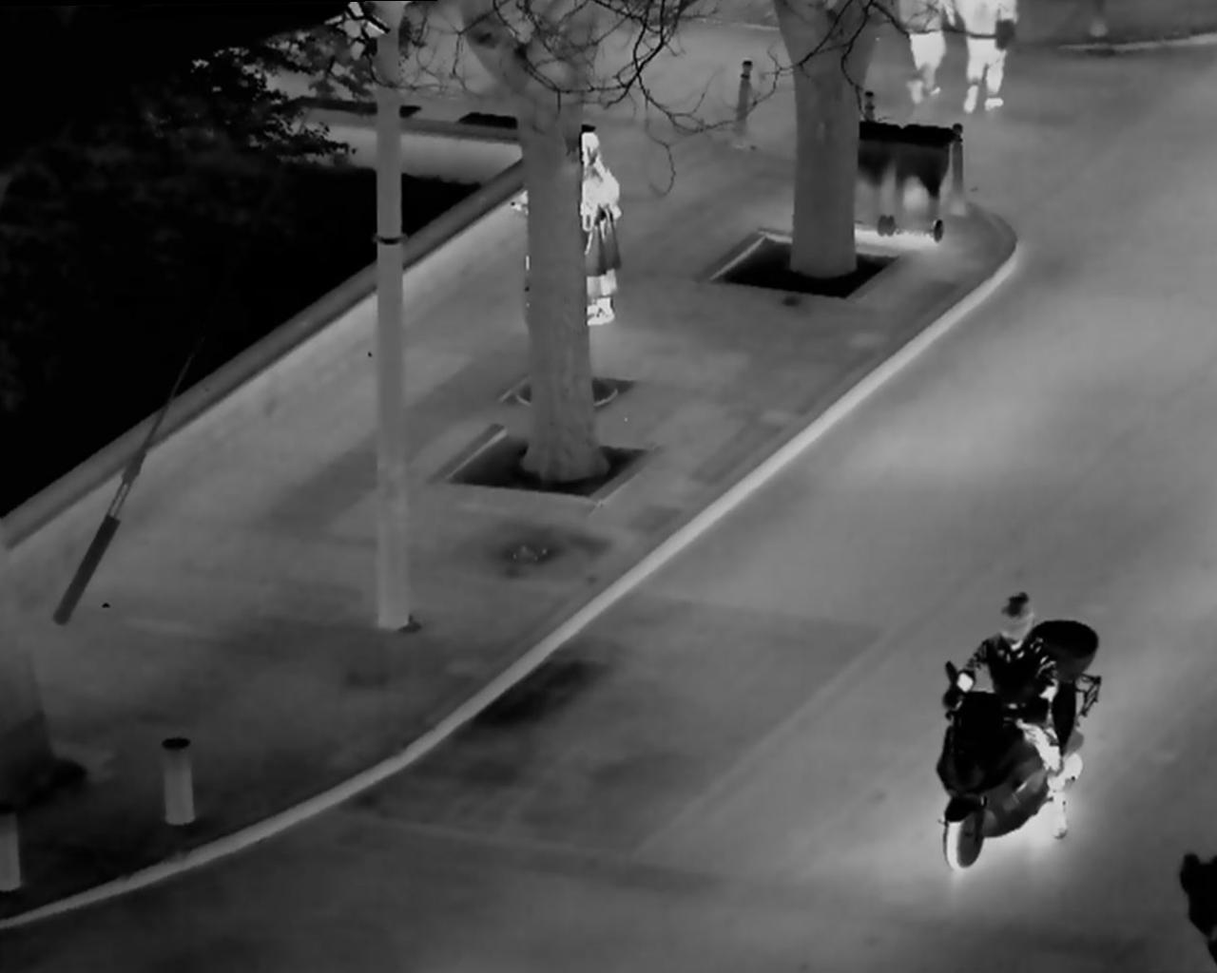person: (939, 568, 1084, 851), (565, 124, 641, 331), (894, 4, 954, 106)
